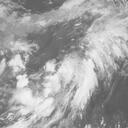cyclone: (37, 56, 100, 100)
